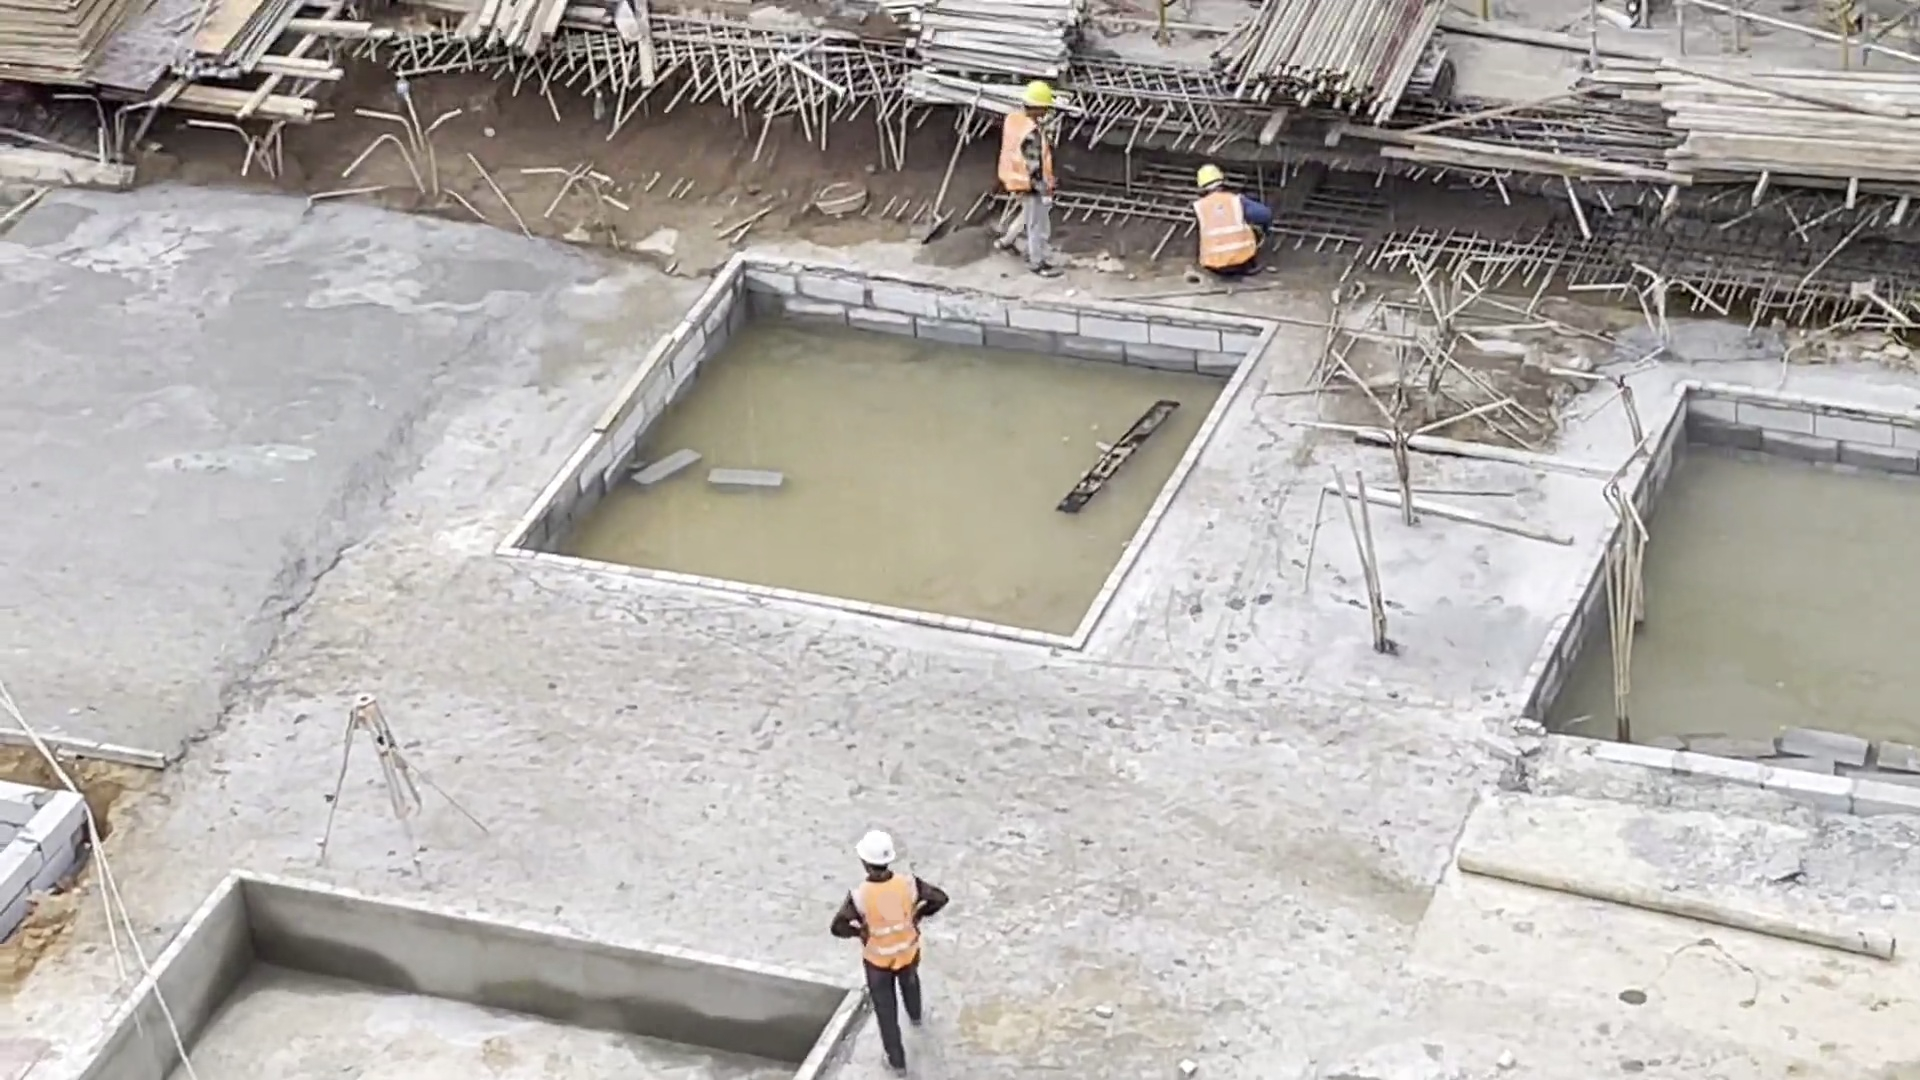helmet: (856, 830, 898, 867), (1022, 78, 1053, 109), (1197, 165, 1225, 189)
person: (830, 821, 951, 1080), (980, 77, 1068, 279), (1184, 165, 1271, 272)
vest: (854, 872, 925, 971), (993, 109, 1052, 196), (1194, 191, 1259, 265)
